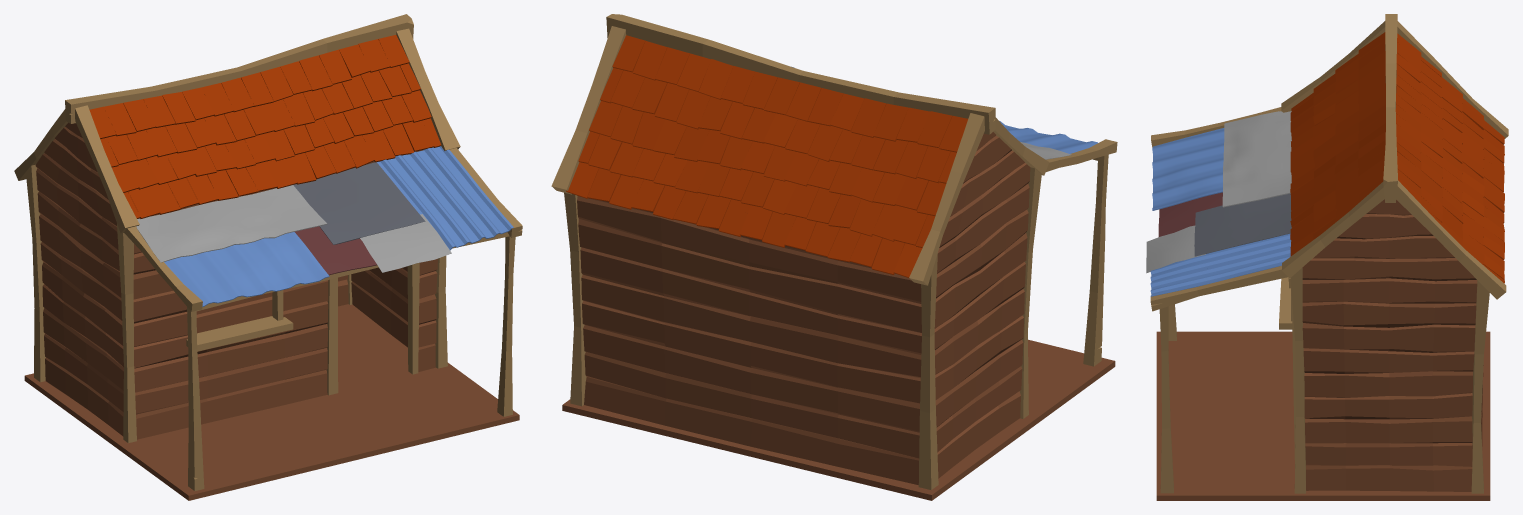
Rendered from shed.fbx.
3 renders of one model, left to right at view 1: azimuth 30°, elevation 25°; view 2: azimuth 150°, elevation 25°; view 3: azimuth 270°, elevation 25°, orthographic. The views are drawn at different scales.
Visible parts, largest first — view 1: Cube.101, Base, Wall.003, Wall.002, Plane.001, Z Function, Z Function.001, Plane, Cube.007, Wall, Plane.003, Pole.003 (+15 smaller); view 2: Wall.001, Cube.008, Wall.002, Base, Cube.007, Pole.002, Pole.006, Pole.010, Pole.005, Pole, Pole.003, Z Function.001 (+2 smaller); view 3: Wall, Base, Cube.008, Cube.101, Plane.001, Z Function.001, Z Function, Plane, Pole, Cube.007, Pole.001, Pole.005 (+9 smaller).
Part boxes in pixels (x1,y1,x2,y2): Cube.101: [89, 35, 441, 218]; Base: [24, 304, 519, 500]; Wall.003: [133, 149, 437, 439]; Wall.002: [35, 122, 123, 436]; Plane.001: [136, 185, 327, 262]; Z Function: [377, 146, 513, 250]; Z Function.001: [164, 232, 329, 306]; Plane: [293, 162, 425, 244]; Cube.007: [65, 14, 413, 123]; Wall: [351, 266, 407, 347]; Plane.003: [360, 214, 451, 272]; Pole.003: [117, 224, 136, 442]; Wall.001: [577, 195, 921, 484]; Cube.008: [566, 35, 967, 277]; Wall.002: [934, 132, 1030, 478]; Base: [562, 339, 1115, 500]; Cube.007: [606, 14, 995, 134]; Pole.002: [918, 253, 938, 489]; Pole.006: [909, 113, 984, 285]; Pole.010: [1083, 154, 1108, 366]; Pole.005: [551, 26, 626, 194]; Pole: [564, 192, 586, 406]; Pole.003: [1019, 167, 1041, 418]; Z Function.001: [999, 121, 1097, 153]; Wall: [1302, 199, 1477, 491]; Base: [1156, 331, 1490, 500]; Cube.008: [1395, 33, 1504, 283]; Cube.101: [1290, 32, 1385, 256]; Plane.001: [1222, 111, 1291, 207]; Z Function.001: [1152, 128, 1224, 210]; Z Function: [1150, 233, 1291, 296]; Plane: [1194, 193, 1291, 256]; Pole: [1471, 280, 1489, 493]; Cube.007: [1383, 14, 1397, 202]; Pole.001: [1290, 267, 1306, 493]; Pole.005: [1396, 180, 1506, 299].
Bounding box in the file's own units: 409 × 364 × 370.
